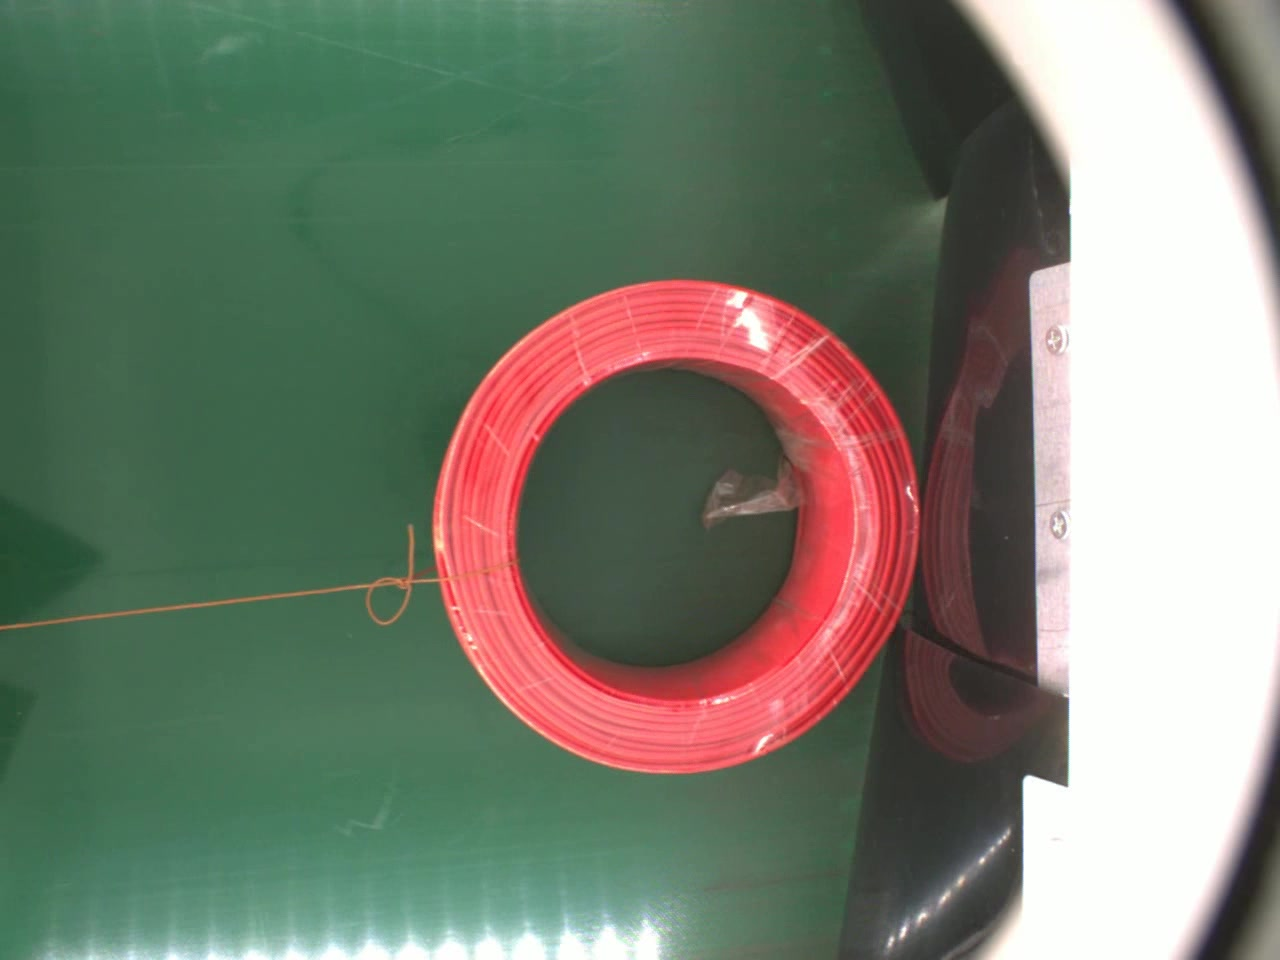red: (432, 274, 924, 779)
